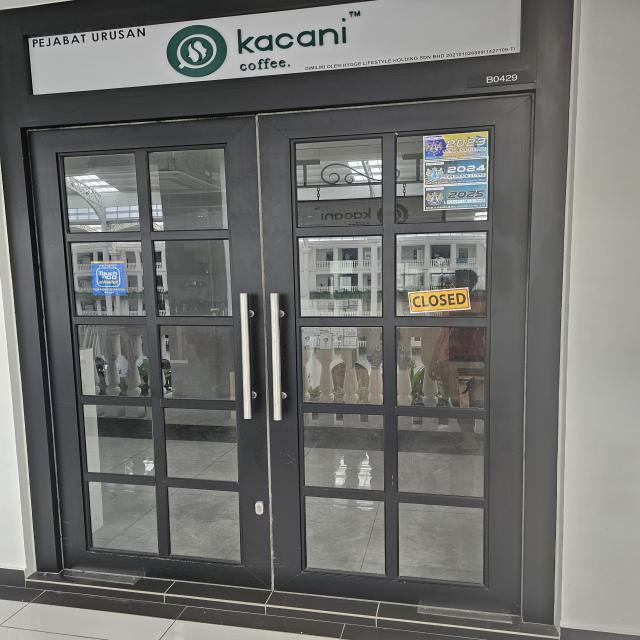door: (2, 68, 579, 640)
